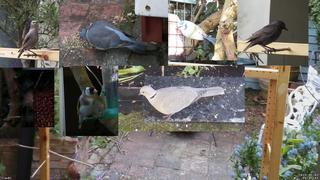blue tit: (176, 20, 217, 44)
collared dove: (138, 86, 225, 120)
goldfinch: (77, 86, 98, 130)
mouse: (22, 88, 34, 110)
starling: (243, 20, 288, 54), (18, 20, 39, 59)
wood pigeon: (79, 20, 148, 55)
